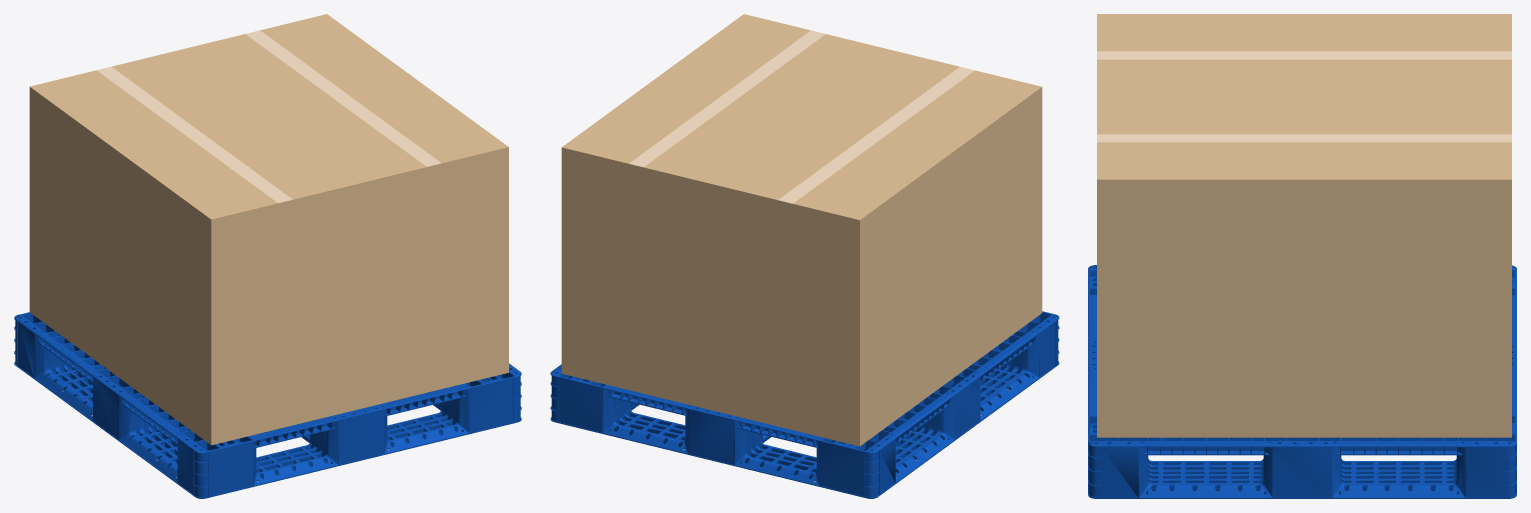
Rendered from goods.glb.
3 renders of one model, left to right at view 1: azimuth 30°, elevation 25°; view 2: azimuth 150°, elevation 25°; view 3: azimuth 270°, elevation 25°, orthographic. The views are drawn at different scales.
Visible parts, largest first — view 1: 3DGeom-3, 3DGeom-1, 3DGeom-4; view 2: 3DGeom-3, 3DGeom-1, 3DGeom-4; view 3: 3DGeom-3, 3DGeom-1, 3DGeom-4.
Part boxes in pixels (x1=…): 3DGeom-3: x1=29, y1=14, x2=508, y2=445; 3DGeom-1: x1=14, y1=312, x2=521, y2=498; 3DGeom-4: x1=97, y1=30, x2=441, y2=203; 3DGeom-3: x1=561, y1=14, x2=1042, y2=446; 3DGeom-1: x1=550, y1=311, x2=1059, y2=498; 3DGeom-4: x1=629, y1=30, x2=974, y2=203; 3DGeom-3: x1=1097, y1=14, x2=1511, y2=437; 3DGeom-1: x1=1088, y1=265, x2=1516, y2=498; 3DGeom-4: x1=1097, y1=51, x2=1511, y2=142.
Bounding box in the file's own units: 1.1 × 0.8849 × 1.1.
